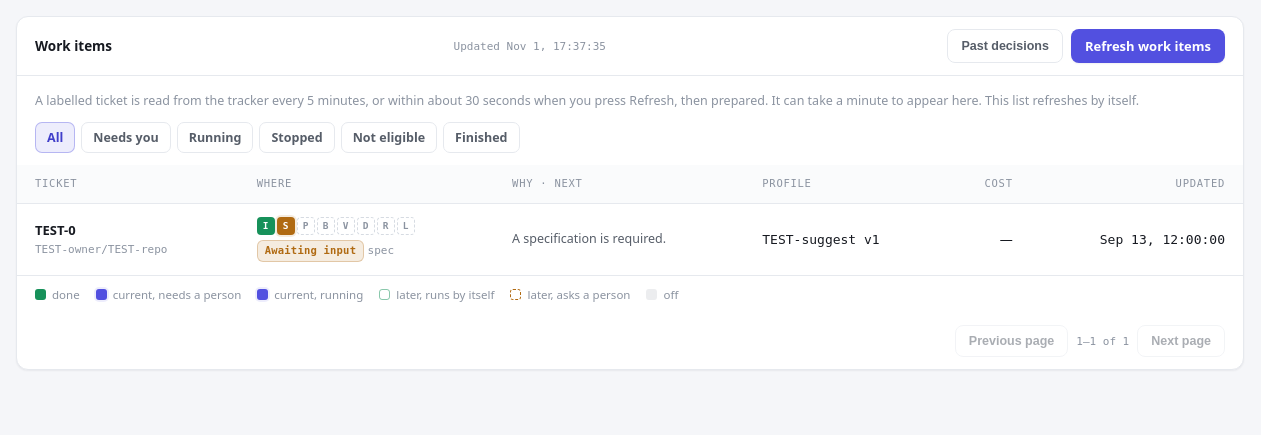
Test case: requests a scan of each enabled source and re-reads the list when refreshed
The image size is (1261, 435).
Expected: the text "when you press Refresh" is shown, 35,92 -> 982,109
Expected: the link "TEST-0" is shown, 35,220 -> 76,238
Click the button "Refresh work items" at [1148, 46], box 1071,29 -> 1225,63
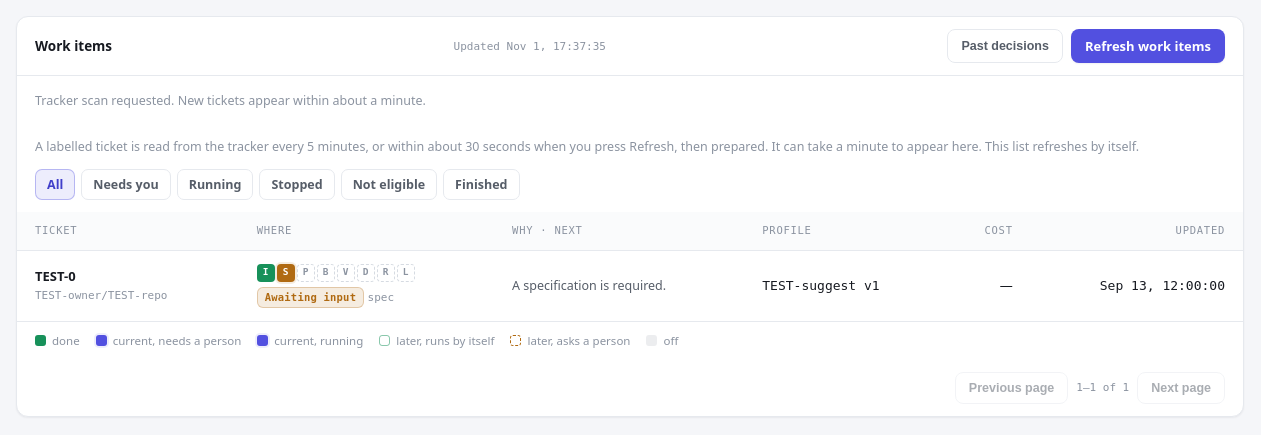
Expected: the message shows "Tracker scan requested.", 35,92 -> 426,109
